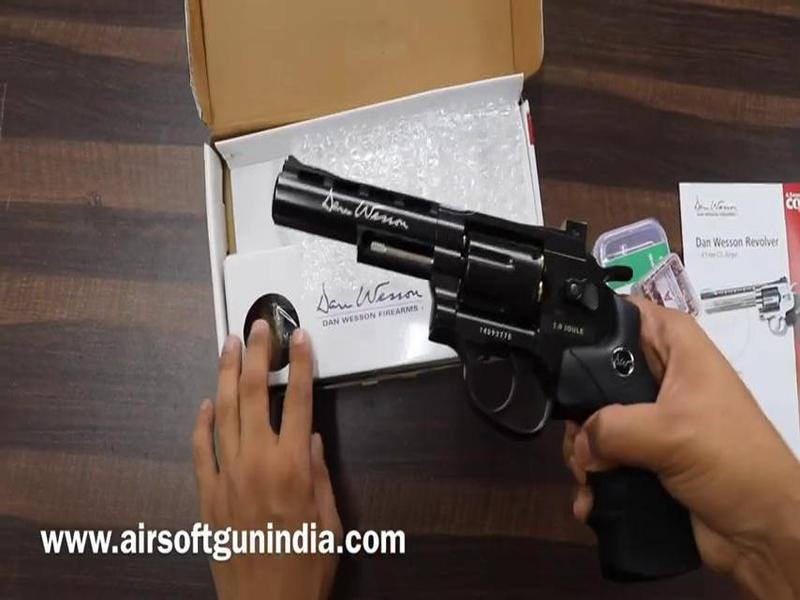Revolver: (255, 151, 734, 586)
